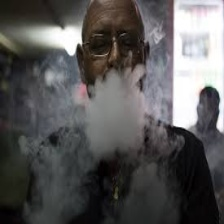smoke: (28, 72, 154, 204)
